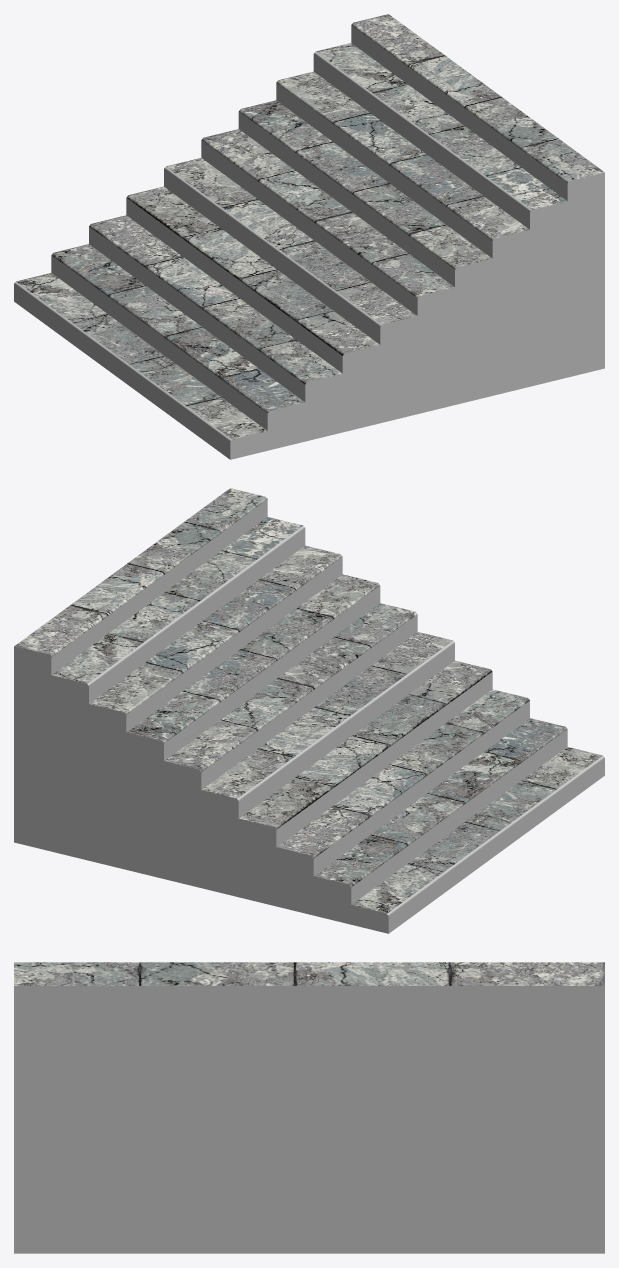
Rendered from Treppe_2x2m.gltf.
3 renders of one model, top to bottom at view 1: azimuth 30°, elevation 25°; view 2: azimuth 150°, elevation 25°; view 3: azimuth 270°, elevation 25°, orthographic. The views are drawn at different scales.
Visible parts, largest first — view 1: Treppe_2x2m; view 2: Treppe_2x2m; view 3: Treppe_2x2m.
Boxes of the visible parts, x1,y1,x2,y2 form: Treppe_2x2m: (14,14,604,459); Treppe_2x2m: (14,488,604,933); Treppe_2x2m: (14,962,604,1253).
Size of the model in its own units: 4 by 2 by 4.
